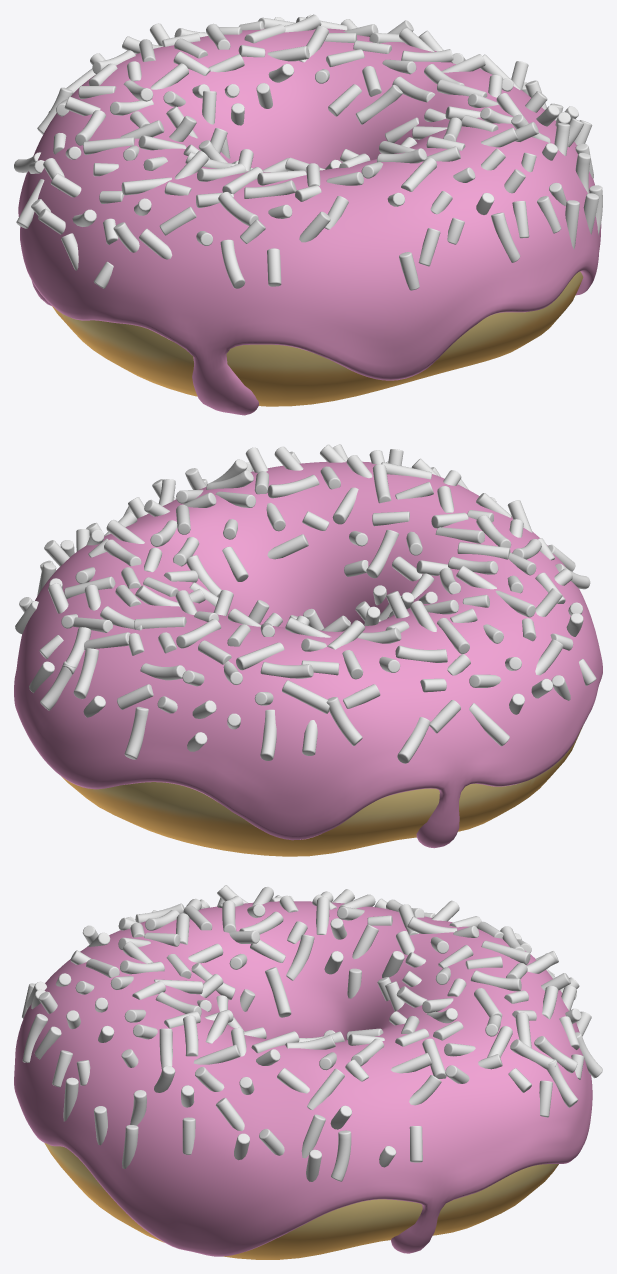
The model's file is Donut 1.fbx.
The picture shows the model from 3 angles, top to bottom: view 1: azimuth 30°, elevation 25°; view 2: azimuth 150°, elevation 25°; view 3: azimuth 270°, elevation 25°; orthographic projection. The views are drawn at different scales.
Parts seen in each view (by area): view 1: Icing, Donut, Cylinder.190, Cylinder.053, Cylinder.099, Cylinder.103, Cylinder.080, Cylinder.132, Cylinder.017, Cylinder.169, Cylinder.059, Cylinder.066; view 2: Icing, Donut, Cylinder.096, Cylinder.030, Cylinder.076, Cylinder.158, Cylinder.047, Cylinder.152, Cylinder.185, Cylinder.091, Cylinder.011, Cylinder.020 (+10 smaller); view 3: Icing, Donut, Cylinder.025, Cylinder.048, Cylinder.188, Cylinder.062, Cylinder.023, Cylinder.158, Cylinder.134, Cylinder.040, Cylinder.162, Cylinder.141 (+6 smaller).
Boxes of the visible parts, x1,y1,x2,y2 form: Icing: (18, 28, 601, 415); Donut: (52, 271, 583, 406); Cylinder.190: (220, 239, 245, 288); Cylinder.053: (355, 84, 402, 124); Cylinder.099: (491, 212, 520, 262); Cylinder.103: (244, 180, 296, 198); Cylinder.080: (218, 192, 258, 226); Cylinder.132: (83, 137, 134, 154); Cylinder.017: (401, 49, 453, 62); Cylinder.169: (121, 177, 171, 195); Cylinder.059: (401, 157, 437, 191); Cylinder.066: (197, 163, 246, 181); Icing: (14, 461, 602, 848); Donut: (61, 725, 583, 856); Cylinder.096: (124, 706, 148, 759); Cylinder.030: (326, 697, 362, 745); Cylinder.076: (260, 662, 313, 678); Cylinder.158: (73, 648, 98, 699); Cylinder.047: (282, 680, 329, 713); Cylinder.152: (366, 529, 398, 578); Cylinder.185: (397, 717, 430, 763); Cylinder.091: (395, 645, 447, 662); Cylinder.011: (260, 709, 276, 760); Cylinder.020: (267, 475, 319, 498); Icing: (14, 901, 592, 1256); Donut: (44, 1143, 558, 1259); Cylinder.025: (331, 1130, 351, 1181); Cylinder.048: (265, 967, 291, 1017); Cylinder.188: (286, 934, 314, 980); Cylinder.062: (307, 1068, 344, 1110); Cylinder.023: (470, 970, 521, 991); Cylinder.158: (534, 1036, 577, 1073); Cylinder.134: (547, 1059, 577, 1107); Cylinder.040: (301, 1114, 325, 1158); Cylinder.162: (183, 1015, 198, 1056); Cylinder.141: (510, 1039, 556, 1069).
Bounding box in the file's own units: 211 × 92.72 × 215.
